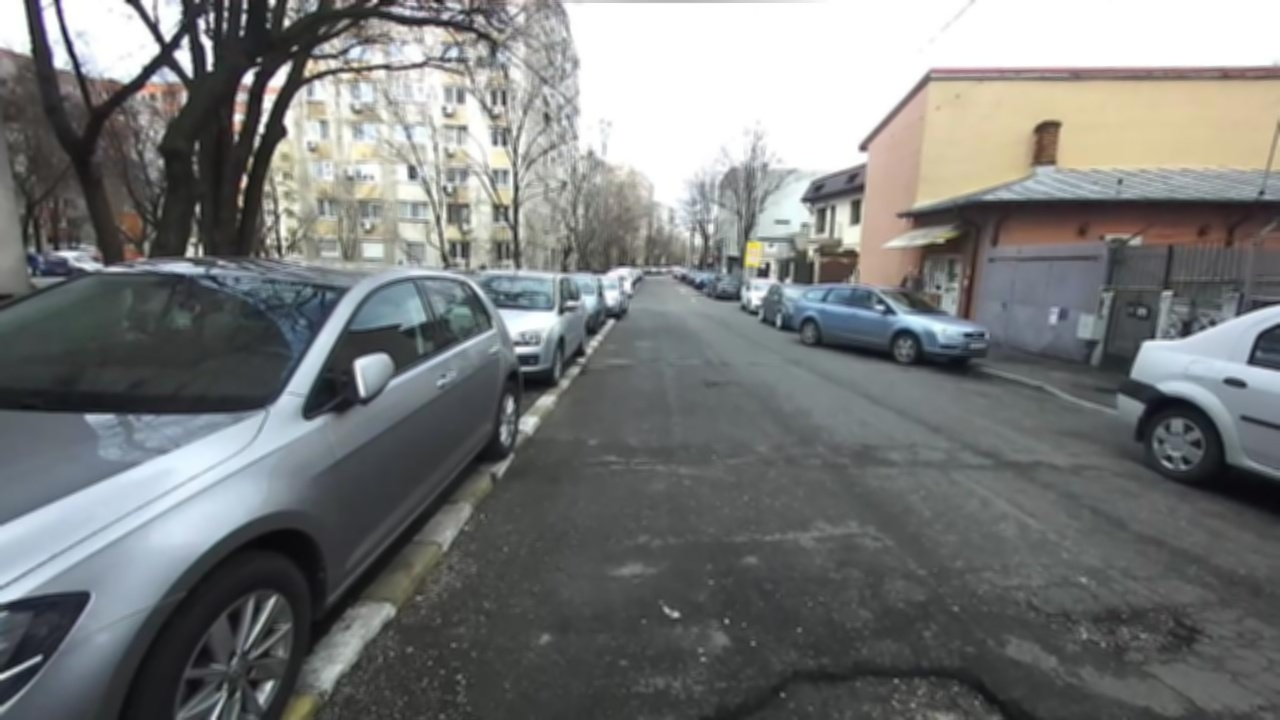pothole: (698, 656, 1062, 720), (1030, 595, 1214, 665), (591, 450, 676, 473)
